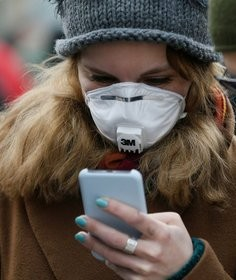with_mask: (59, 4, 221, 162)
